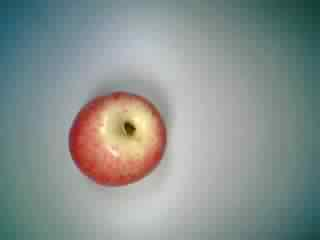apple: (65, 85, 172, 189)
